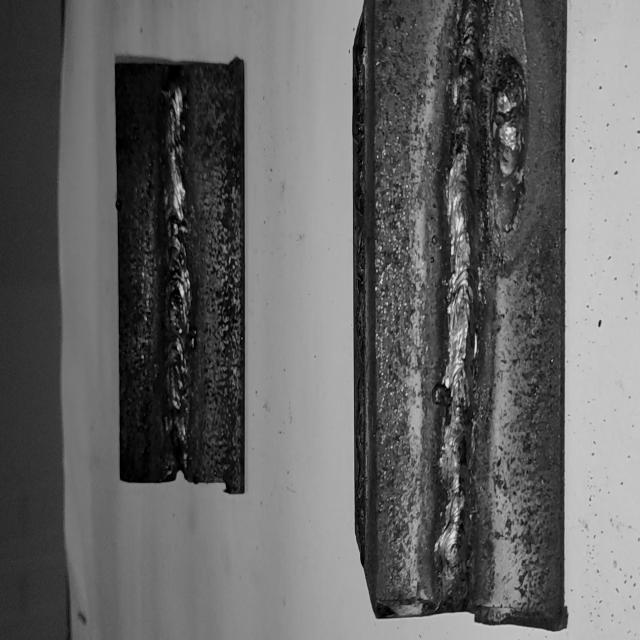Defect: (434, 56, 532, 180)
Welding Line: (443, 3, 482, 592), (163, 75, 191, 470)
Workpiece: (374, 0, 570, 622), (112, 56, 249, 500)
